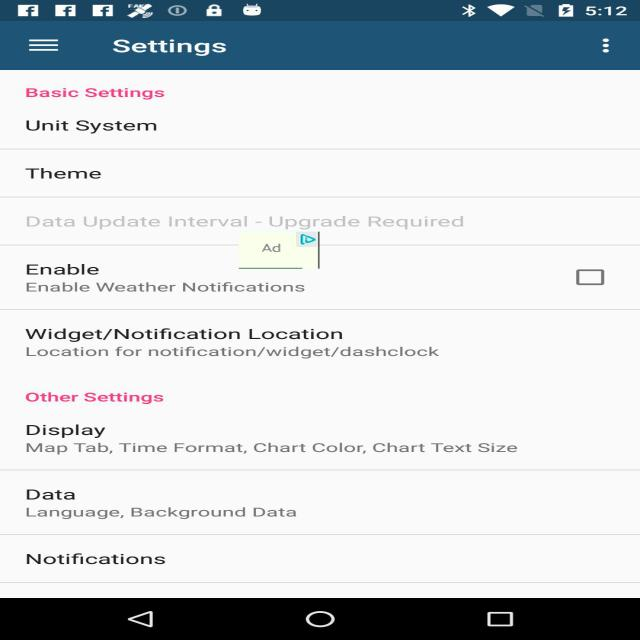sneaking: (239, 232, 319, 268)
